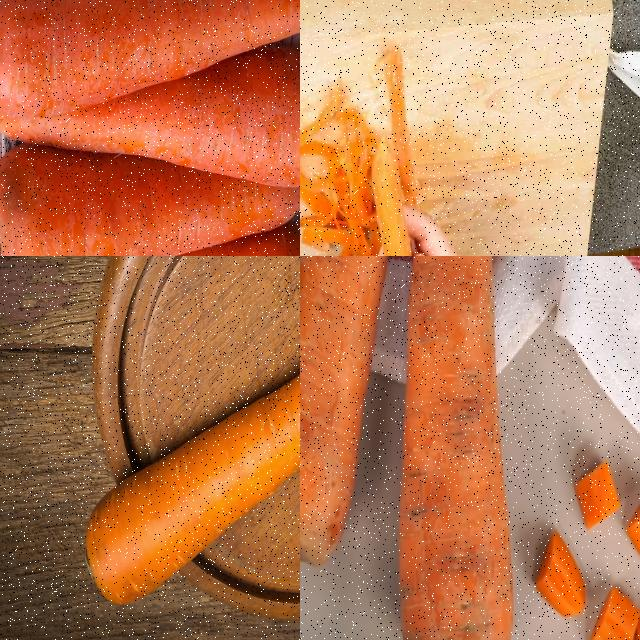carrot: (85, 339, 299, 620), (396, 256, 520, 639), (0, 41, 299, 188), (300, 256, 431, 570), (0, 135, 299, 255), (0, 0, 299, 112), (535, 460, 639, 639), (0, 221, 299, 255), (371, 135, 431, 255)
